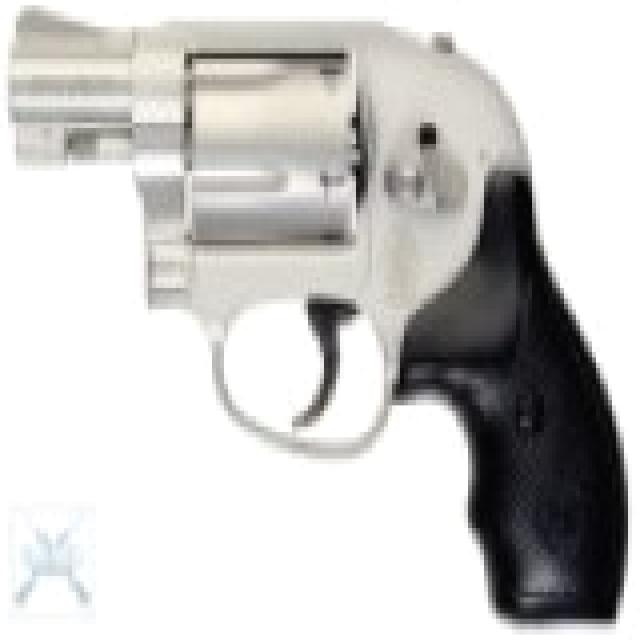pistol: (12, 0, 624, 613)
